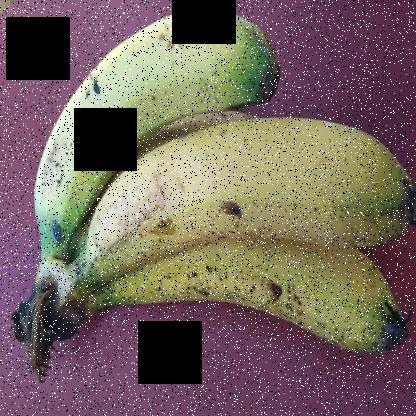ripe: (29, 3, 277, 252), (89, 94, 415, 265), (94, 236, 413, 369)
